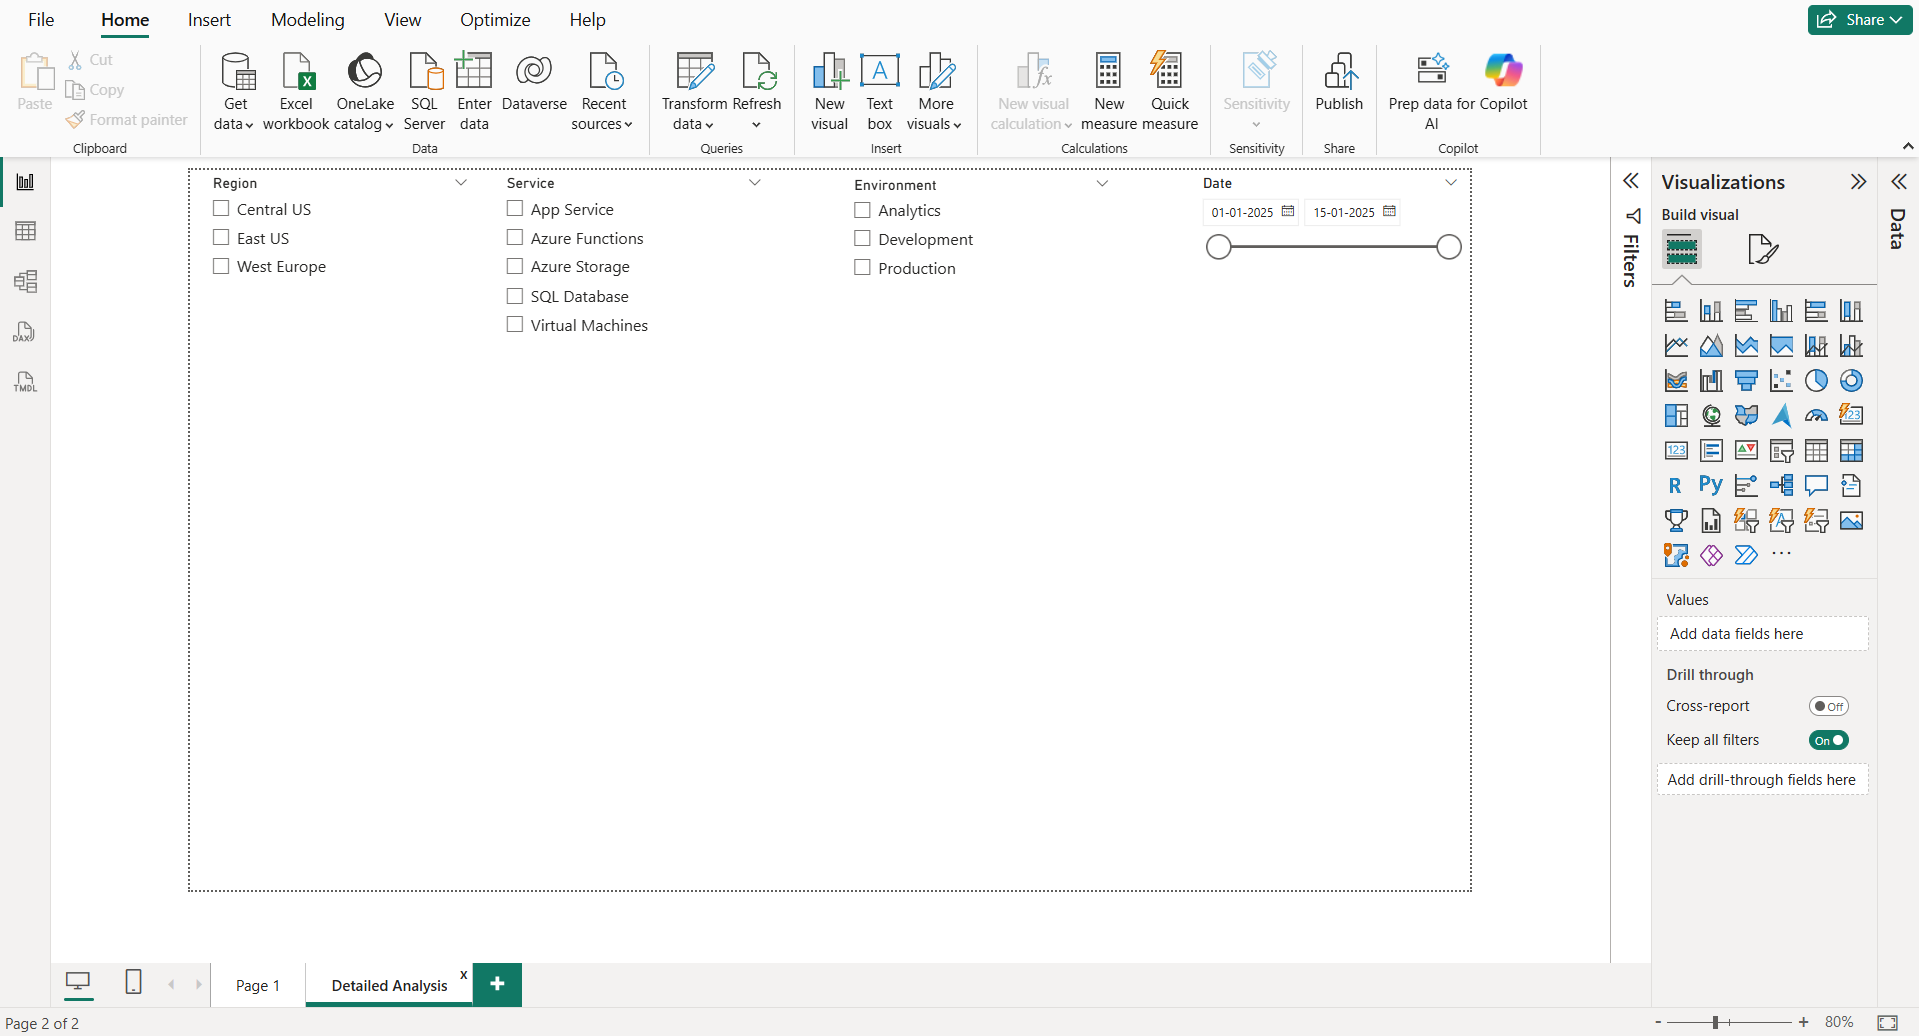

What the dashboard file says about the page in this screenshot:
{"tool":"powerbi","page":{"name":"Detailed Analysis","canvas":[1280,720],"ordinal":1},"visuals":[{"type":"slicer","fields":{"Values":["azure_cloud_cost_data.Region"]},"box":[9.6,0,279.9,152.3],"z":0},{"type":"slicer","fields":{"Values":["azure_cloud_cost_data.Service"]},"box":[303.3,0,279.9,192.1],"z":1000},{"type":"slicer","fields":{"Values":["azure_cloud_cost_data.Environment"]},"box":[651.8,1.4,279.9,150.9],"z":2000},{"type":"slicer","fields":{"Values":["azure_cloud_cost_data.Date"]},"box":[1000.3,0,279.9,152.3],"z":3000}]}

Visuals, with their boxes on the page's 1280x720 design canvas (x1, y1, x2, y2). These are canvas units, not pixel positions in the 1919x1036 screenshot, which may show the page scaled, cropped or inside an application window:
slicer - azure_cloud_cost_data.Region: 10/0/290/152
slicer - azure_cloud_cost_data.Service: 303/0/583/192
slicer - azure_cloud_cost_data.Environment: 652/1/932/152
slicer - azure_cloud_cost_data.Date: 1000/0/1280/152
